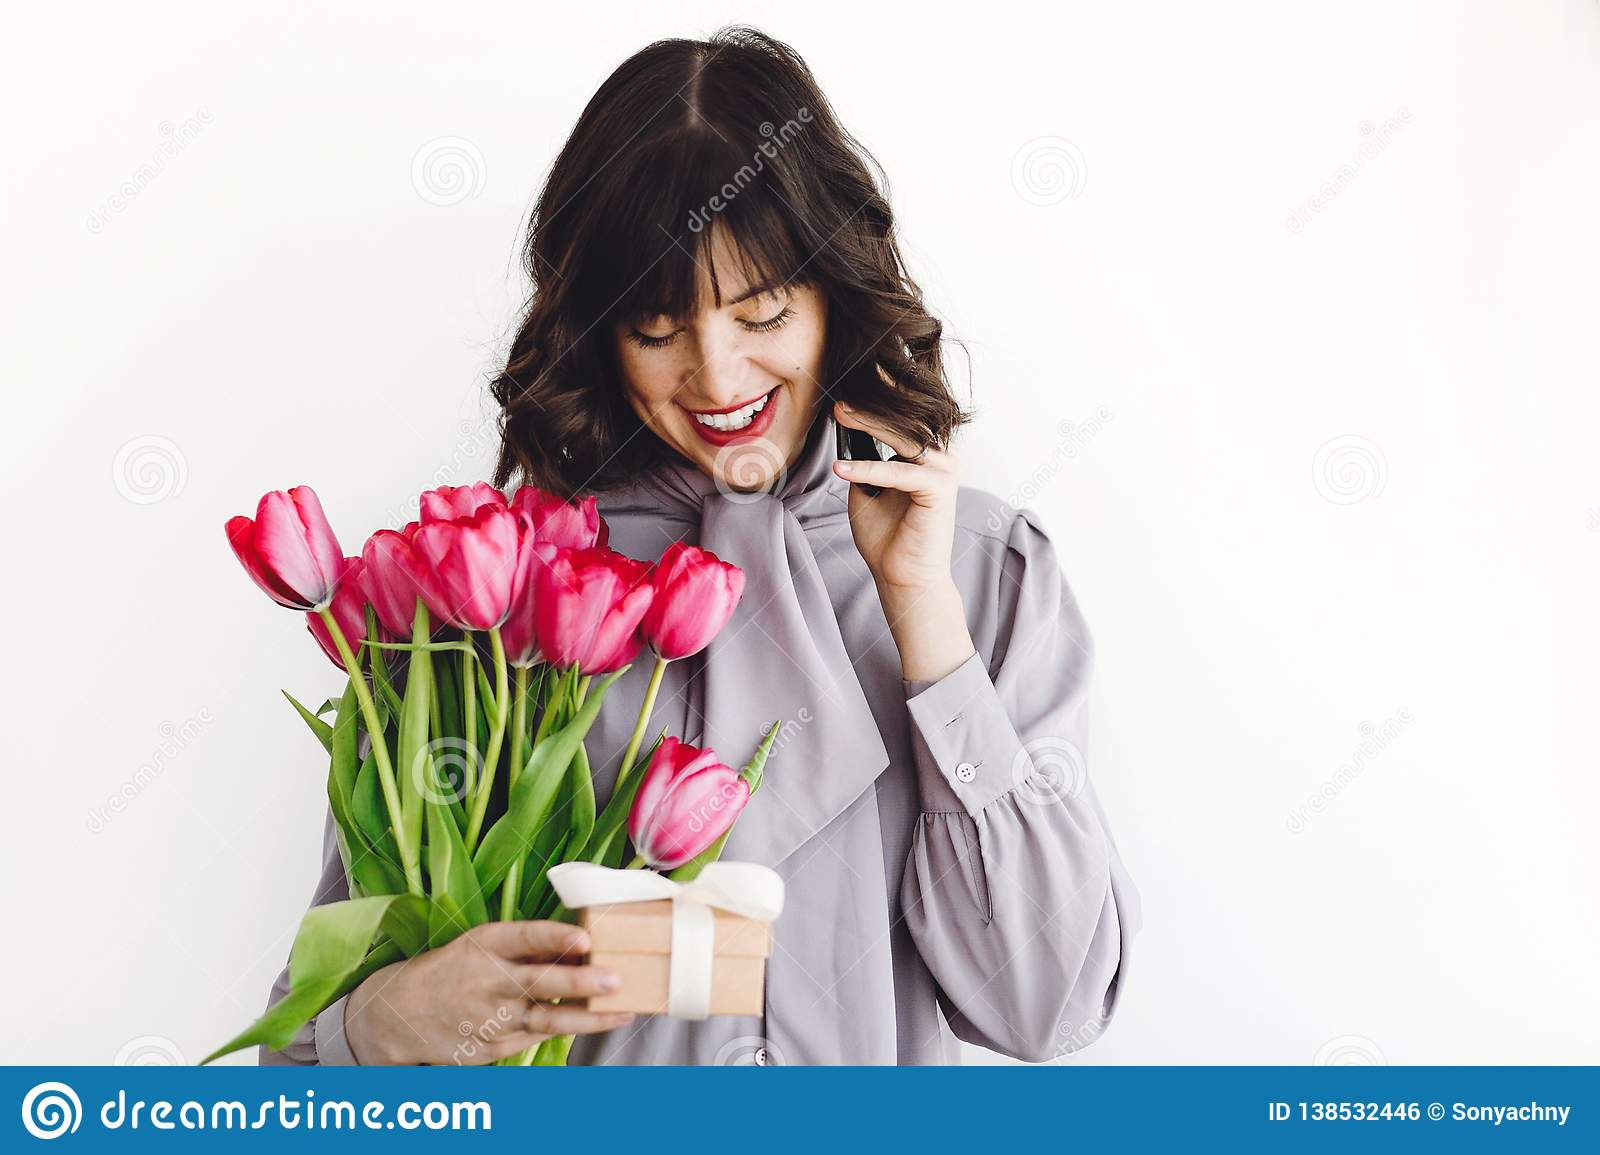phone: (829, 332, 899, 504)
talk: (620, 268, 957, 614)
